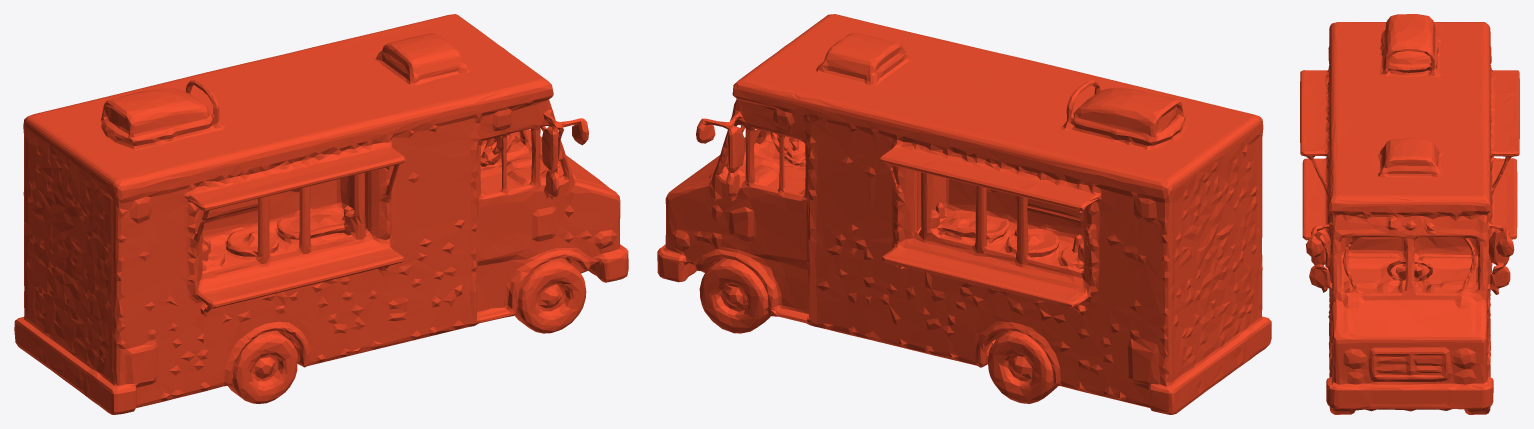
Rendered from car.glb.
3 views of the same model, side by side, from view 1: azimuth 30°, elevation 25°; view 2: azimuth 150°, elevation 25°; view 3: azimuth 270°, elevation 25° (orthographic). The views are drawn at different scales.
Visible parts, largest first — view 1: white_mesh; view 2: white_mesh; view 3: white_mesh.
Part boxes in pixels (x1,y1,x2,y2): white_mesh: [14, 14, 628, 414]; white_mesh: [657, 14, 1271, 414]; white_mesh: [1300, 14, 1519, 414].
Size of the model in its own units: 0.1882 by 0.0999 by 0.0826.
